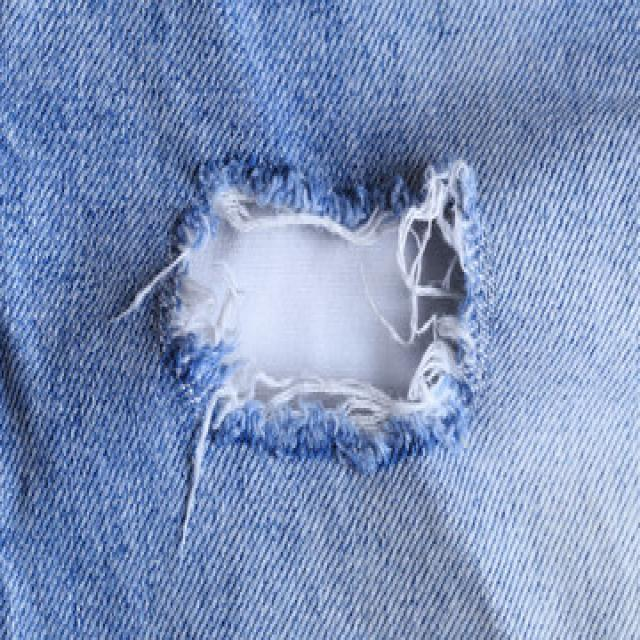Hole: (171, 160, 483, 516)
